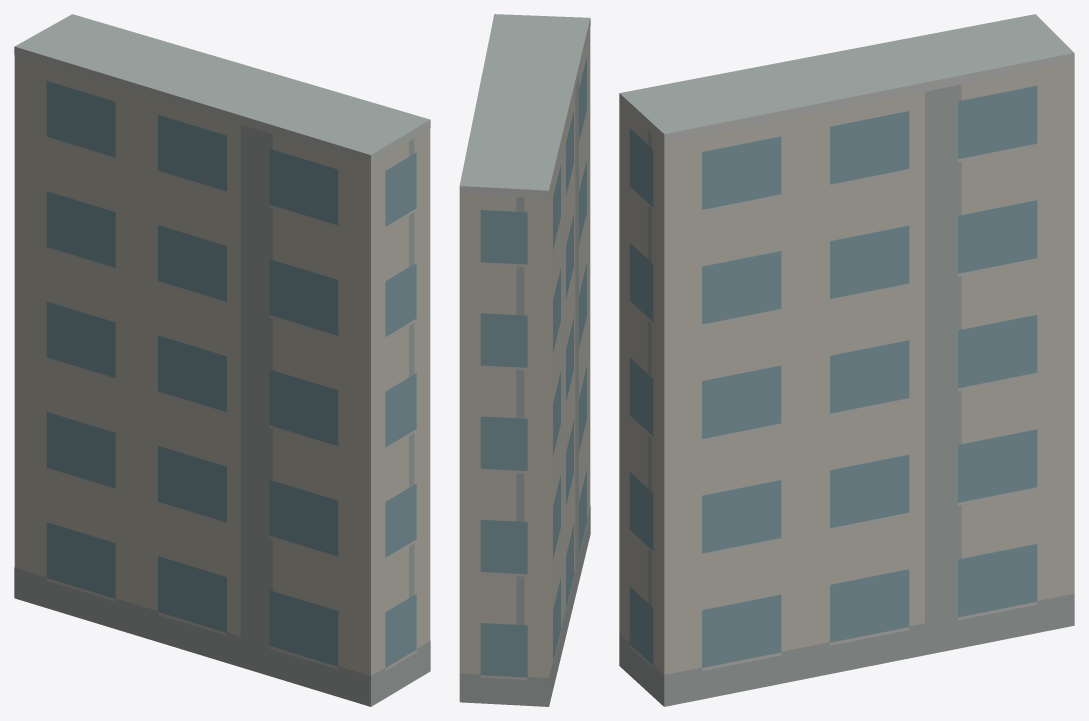
Rendered from survey-upis-32512657.glb.
3 views of the same model, side by side, from view 1: azimuth 30°, elevation 25°; view 2: azimuth 150°, elevation 25°; view 3: azimuth 270°, elevation 25° (orthographic). The views are drawn at different scales.
Visible parts, largest first — view 1: survey-upis-32512657.tmp; view 2: survey-upis-32512657.tmp; view 3: survey-upis-32512657.tmp.
Boxes of the visible parts, x1,y1,x2,y2 form: survey-upis-32512657.tmp: (14, 14, 430, 706); survey-upis-32512657.tmp: (459, 14, 590, 706); survey-upis-32512657.tmp: (619, 14, 1074, 706).
Size of the model in its own units: 6.87 by 15.25 by 10.99.
